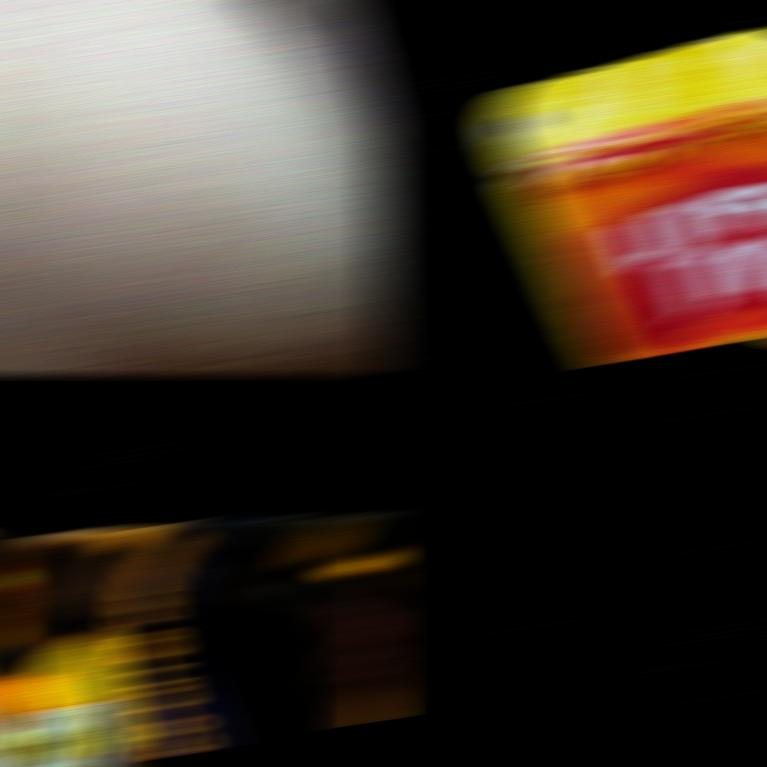Datu Puti Patis: (486, 28, 767, 364)
egg: (0, 1, 394, 373)
pillows: (0, 515, 394, 766)
